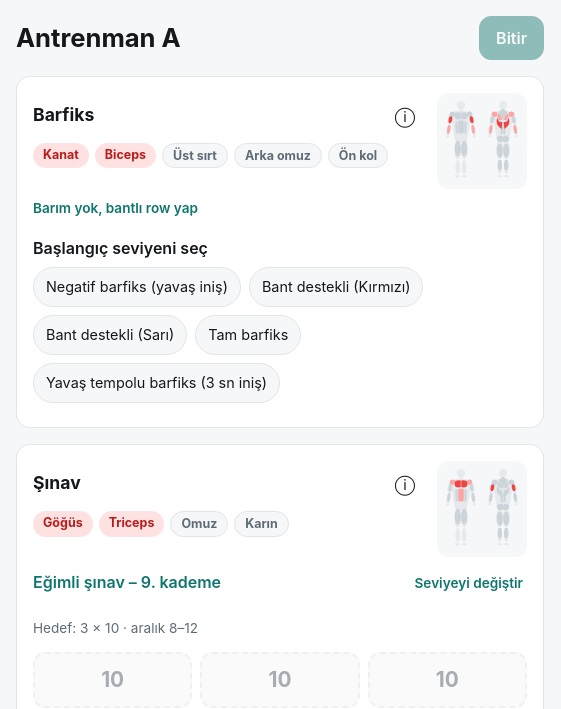
Test case: seviyesi seçilmemiş harekette başlangıç seviyesi seçilir
The width and height of the screenshot is (561, 709).
expect the text "Başlangıç seviyeni seç" is shown: met, box left=33, top=238, right=208, bottom=258
What coordinates should you click on to do the following:
click the button "Bant destekli (Sarı)"
I would click on:
 (110, 335)
Its box is left=33, top=315, right=187, bottom=355.
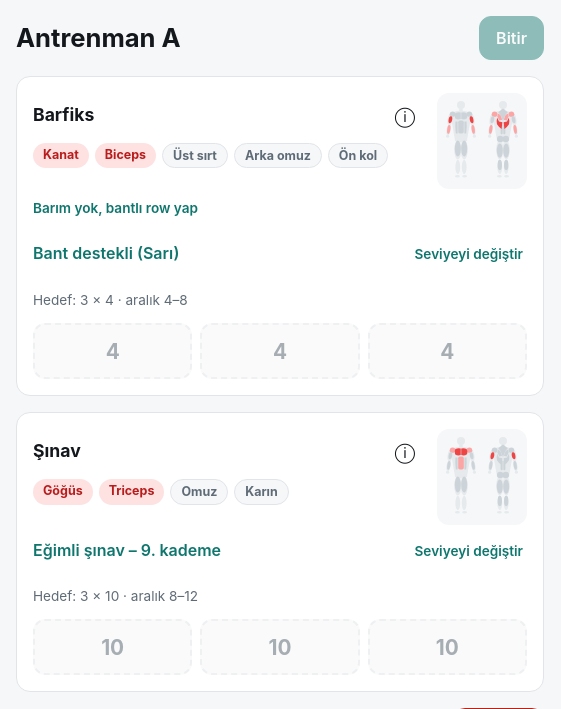
expect the text "Bant destekli (Sarı)" is shown: met, box left=33, top=242, right=180, bottom=265
expect the text "Hedef: 3 × 4 · aralık 4–8" is shown: met, box left=33, top=292, right=188, bottom=308
